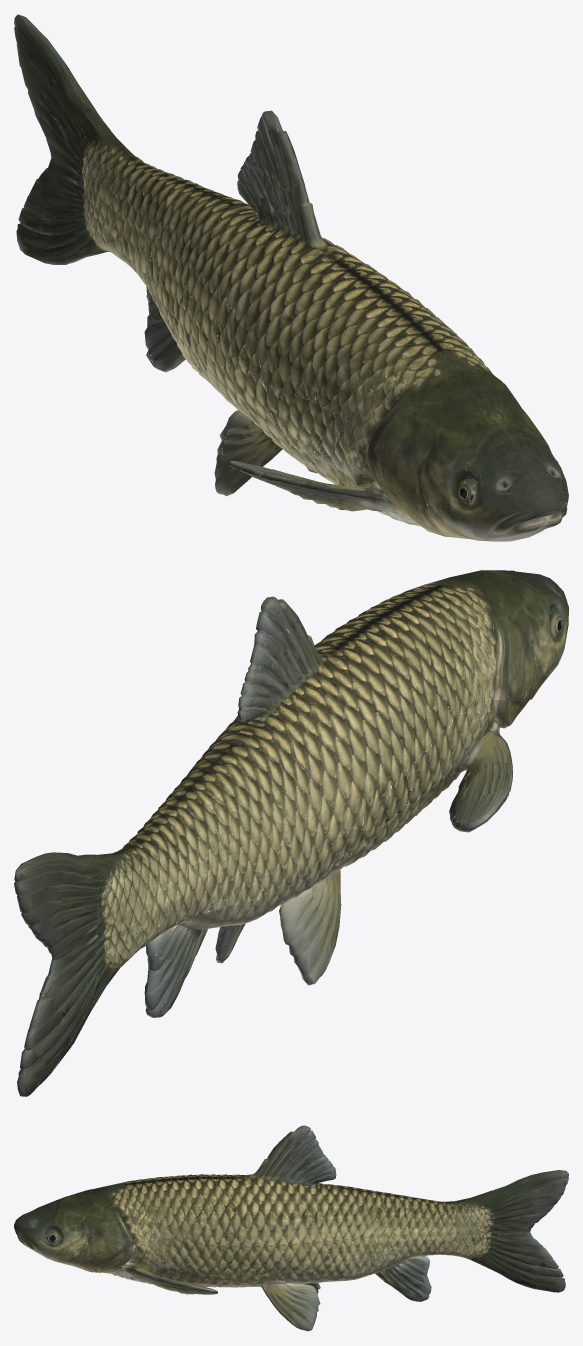
Rendered from amur.glb.
3 renders of one model, top to bottom at view 1: azimuth 30°, elevation 25°; view 2: azimuth 150°, elevation 25°; view 3: azimuth 270°, elevation 25°, orthographic. The views are drawn at different scales.
Parts seen in each view (by area): view 1: Mesh_0; view 2: Mesh_0; view 3: Mesh_0.
Part boxes in pixels (x1=…): Mesh_0: x1=14, y1=14, x2=568, y2=541; Mesh_0: x1=14, y1=570, x2=568, y2=1096; Mesh_0: x1=14, y1=1125, x2=568, y2=1331.
Bounding box in the file's own units: 0.5335 × 0.7349 × 1.9.
1 material, 1 textured.
